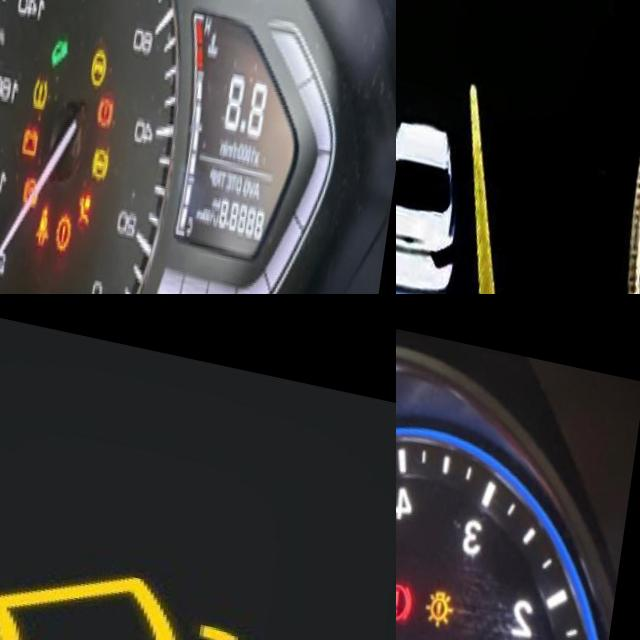Seat Belt: (43, 185, 66, 240)
Washer Fluid: (0, 534, 283, 640)
